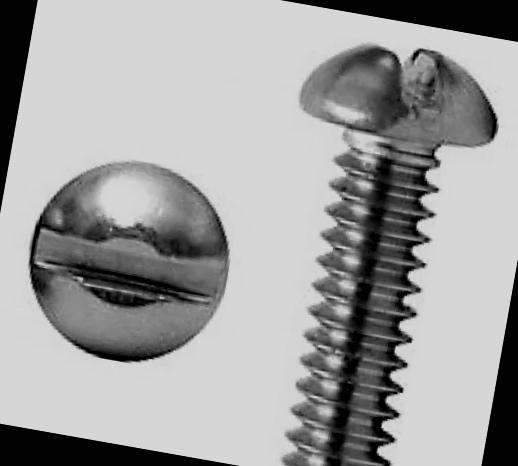screw: (12, 144, 247, 382)
